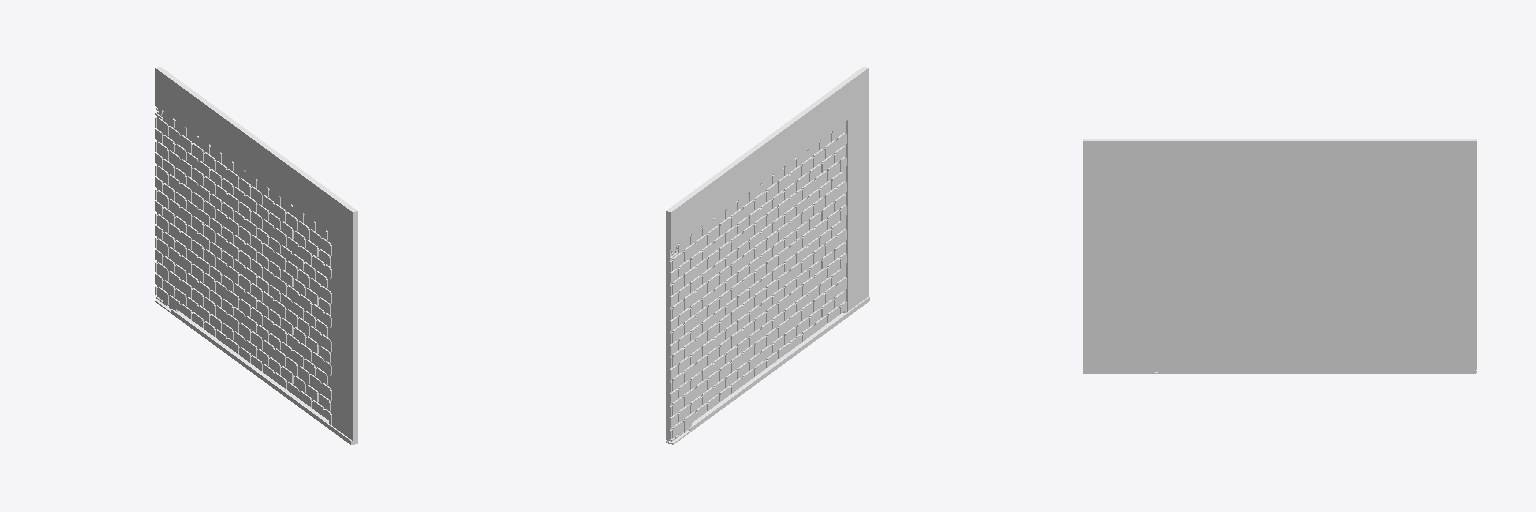
The model's file is Bar1-4.obj.
The picture shows the model from 3 angles: view 1: azimuth 30°, elevation 25°; view 2: azimuth 150°, elevation 25°; view 3: azimuth 270°, elevation 25°; orthographic projection.
Visible parts, largest first — view 1: object 1; view 2: object 1; view 3: object 1.
Part boxes in pixels (left/top/right/bottom): object 1: left=155, top=67, right=357, bottom=444; object 1: left=666, top=67, right=869, bottom=444; object 1: left=1083, top=139, right=1476, bottom=373.
Bounding box in the file's own units: 0.5 × 16.4 × 25.2.